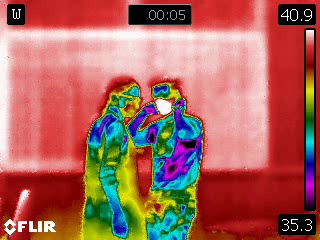human: (131, 77, 206, 240), (80, 74, 148, 240)
